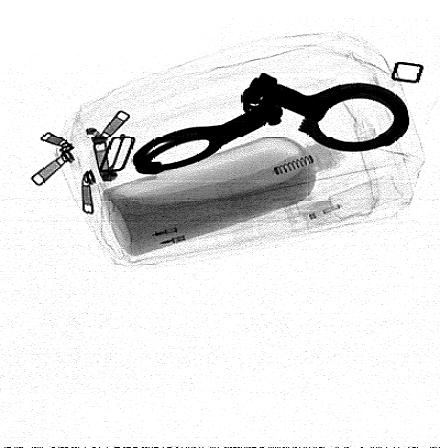HandCuffs: (133, 72, 410, 174)
